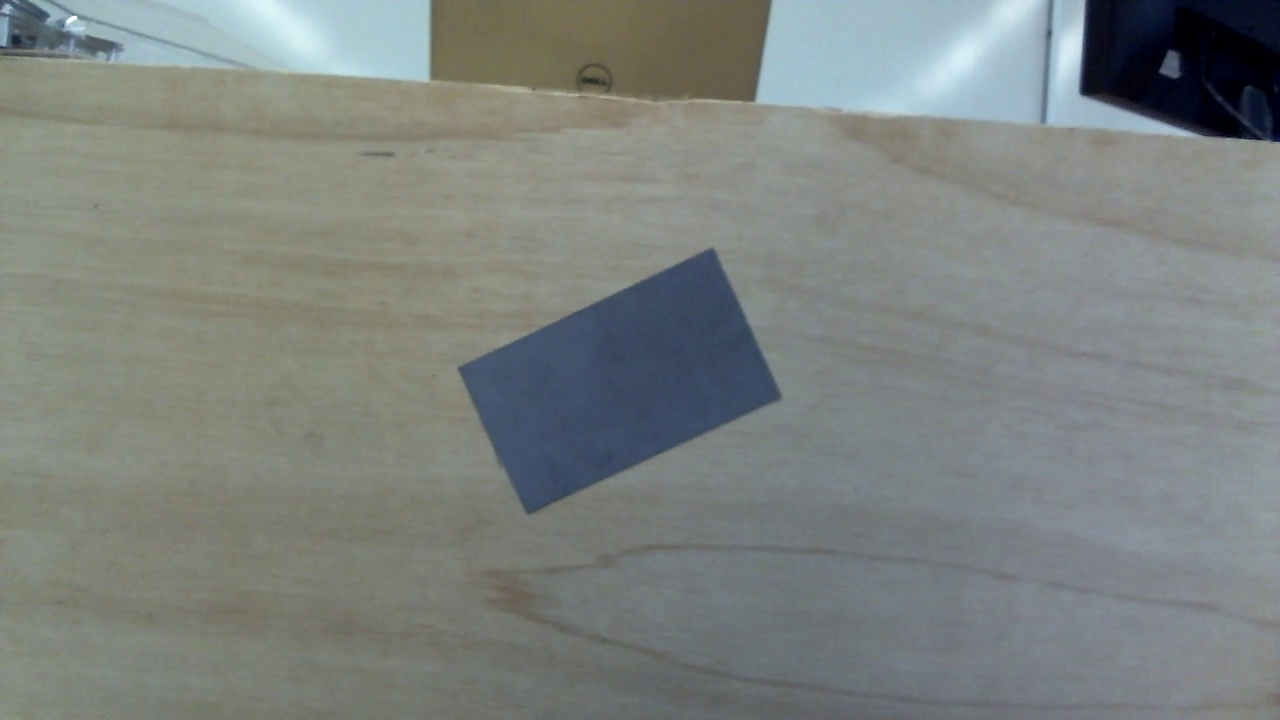Tape: (456, 246, 781, 513)
